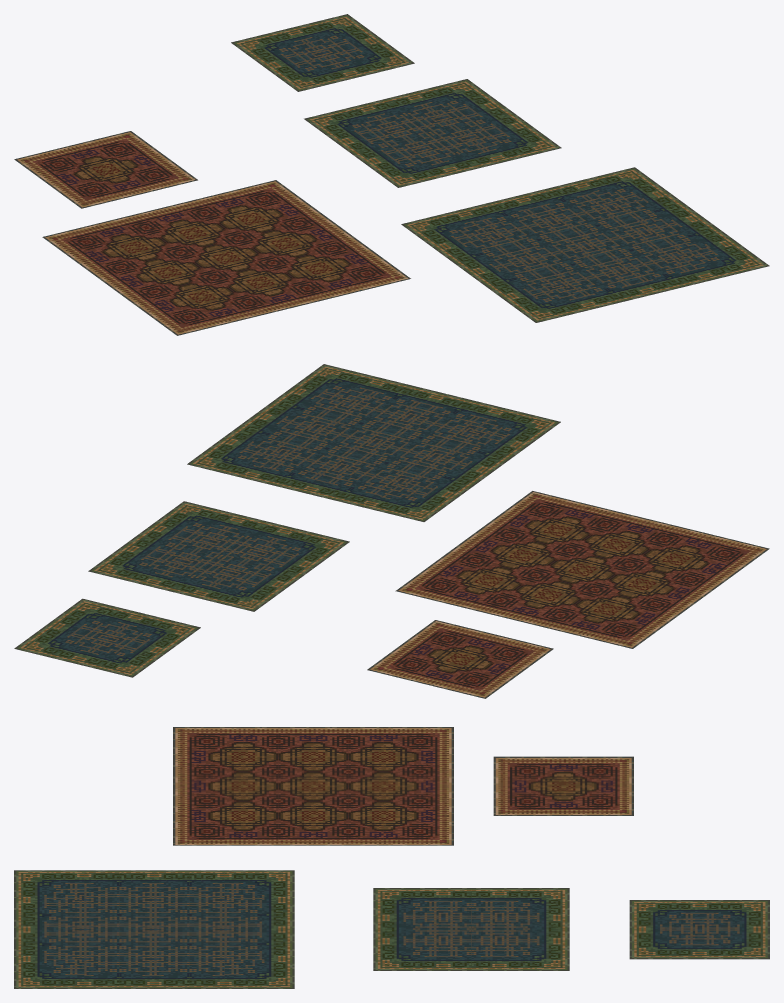
File: EnvObjMD_Carpet_Desert_A.FBX
The picture shows the model from 3 angles, top to bottom: view 1: azimuth 30°, elevation 25°; view 2: azimuth 150°, elevation 25°; view 3: azimuth 270°, elevation 25°; orthographic projection. The views are drawn at different scales.
Visible parts, largest first — view 1: EnvObjMD_Carpet_Desert_A_Large, EnvObjMD_Carpet_Desert_B_Large, EnvObjMD_Carpet_Desert_B_3W3D, EnvObjMD_Carpet_Desert_A, EnvObjMD_Carpet_Desert_B; view 2: EnvObjMD_Carpet_Desert_B_Large, EnvObjMD_Carpet_Desert_A_Large, EnvObjMD_Carpet_Desert_B_3W3D, EnvObjMD_Carpet_Desert_A, EnvObjMD_Carpet_Desert_B; view 3: EnvObjMD_Carpet_Desert_A_Large, EnvObjMD_Carpet_Desert_B_Large, EnvObjMD_Carpet_Desert_B_3W3D, EnvObjMD_Carpet_Desert_A, EnvObjMD_Carpet_Desert_B.
Boxes of the visible parts, x1,y1,x2,y2 form: EnvObjMD_Carpet_Desert_A_Large: (42, 180, 410, 335); EnvObjMD_Carpet_Desert_B_Large: (401, 167, 769, 322); EnvObjMD_Carpet_Desert_B_3W3D: (304, 79, 561, 187); EnvObjMD_Carpet_Desert_A: (14, 131, 197, 208); EnvObjMD_Carpet_Desert_B: (231, 14, 414, 91); EnvObjMD_Carpet_Desert_B_Large: (187, 364, 560, 521); EnvObjMD_Carpet_Desert_A_Large: (395, 491, 769, 648); EnvObjMD_Carpet_Desert_B_3W3D: (88, 501, 349, 611); EnvObjMD_Carpet_Desert_A: (367, 620, 553, 698); EnvObjMD_Carpet_Desert_B: (14, 598, 200, 677); EnvObjMD_Carpet_Desert_A_Large: (173, 727, 453, 845); EnvObjMD_Carpet_Desert_B_Large: (14, 870, 294, 988); EnvObjMD_Carpet_Desert_B_3W3D: (373, 888, 569, 970); EnvObjMD_Carpet_Desert_A: (493, 756, 633, 815); EnvObjMD_Carpet_Desert_B: (629, 900, 769, 959).
Size of the model in its own units: 1323 by 8.4e-05 by 1616.
Materials: 1 (1 with a texture image).
